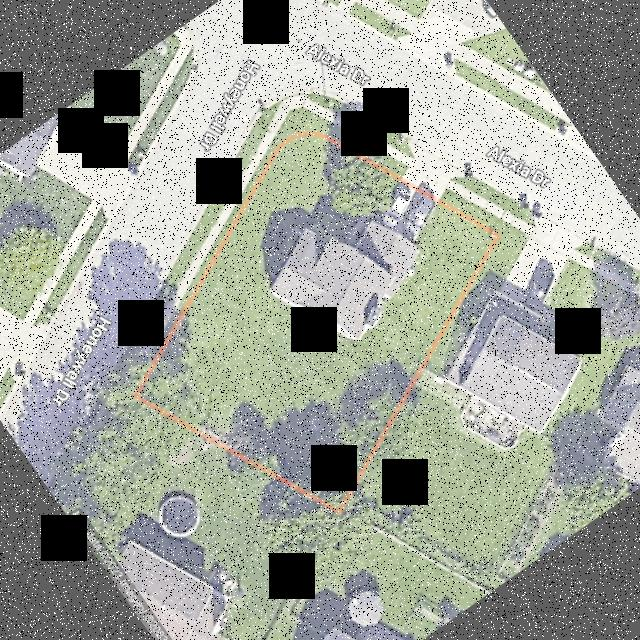Driveway: (376, 182, 433, 242)
Extra Driveway: (404, 144, 462, 198)
Extra Lawn: (168, 103, 278, 282), (168, 104, 277, 283), (440, 186, 502, 230), (268, 109, 327, 152), (454, 177, 514, 212), (378, 124, 412, 156), (376, 154, 407, 176), (306, 93, 339, 110)
Extra Sidewalk: (177, 95, 333, 302), (447, 182, 509, 224), (333, 115, 379, 148), (380, 141, 412, 166)
House: (268, 220, 420, 344)
